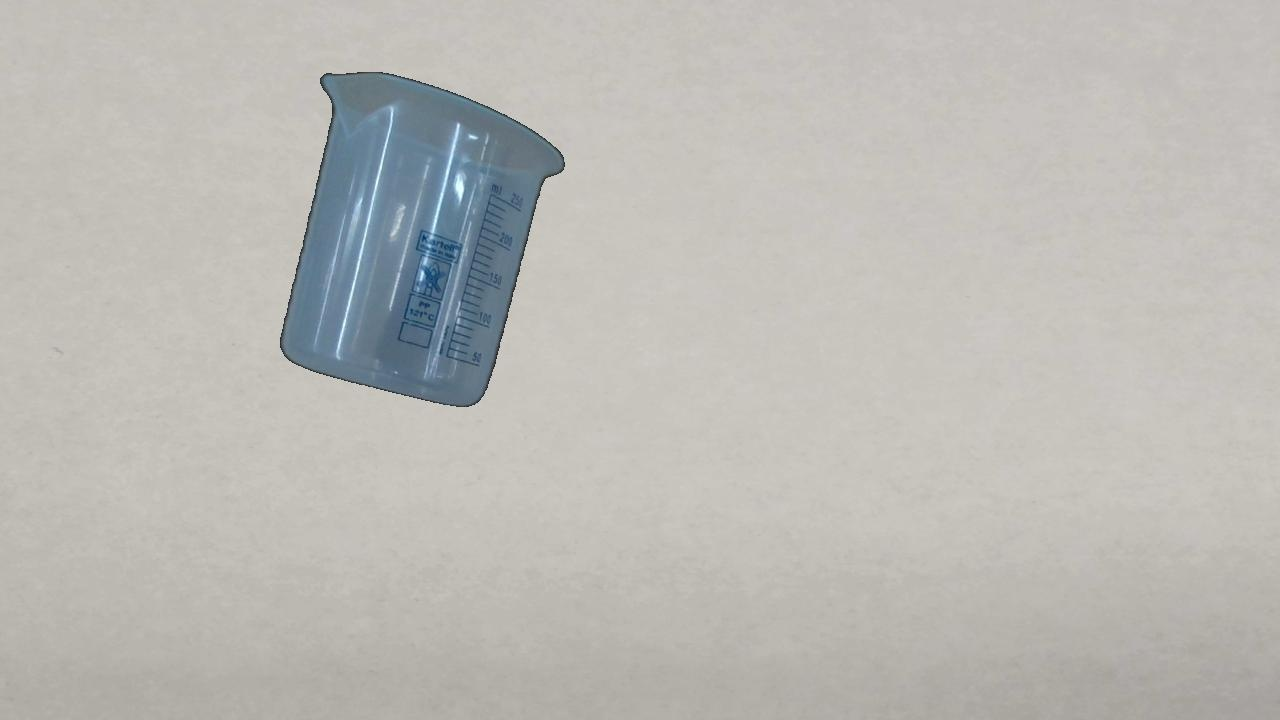becker: (278, 71, 566, 408)
